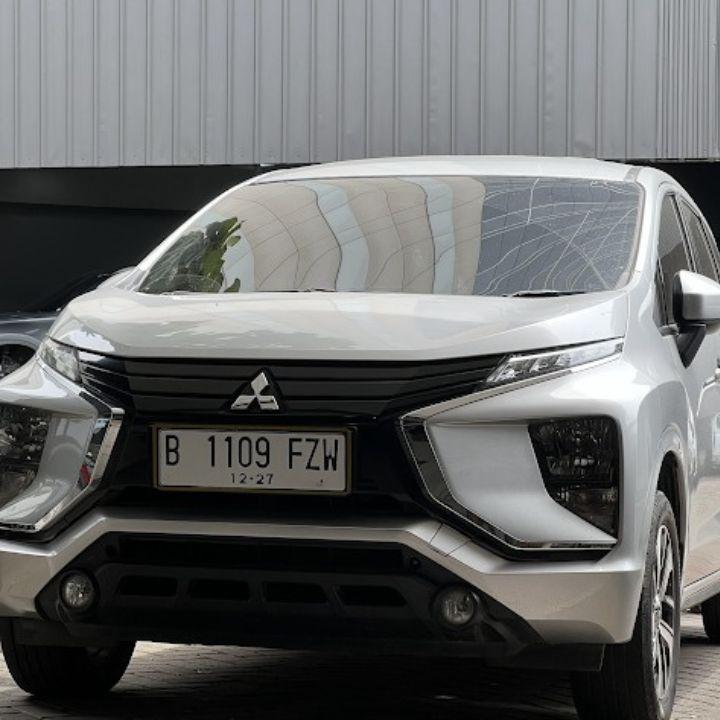plat: (157, 429, 347, 490)
